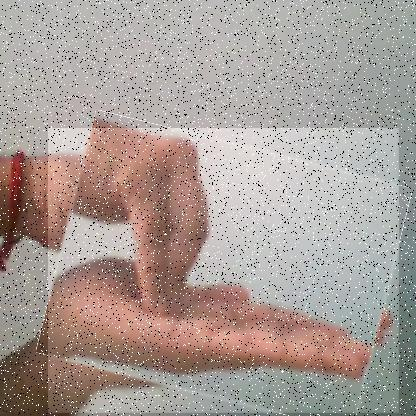Z: (48, 128, 400, 414)
